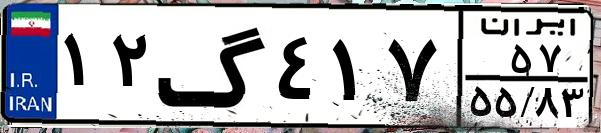1: (330, 28, 385, 110), (57, 26, 110, 100)
2: (110, 28, 156, 98)
3: (560, 70, 590, 125)
4: (270, 28, 330, 110)
5: (508, 27, 537, 80), (470, 70, 495, 125), (495, 70, 520, 125)
7: (385, 28, 445, 110), (537, 27, 568, 80)
8: (535, 70, 560, 125)
گ: (156, 12, 270, 120)
